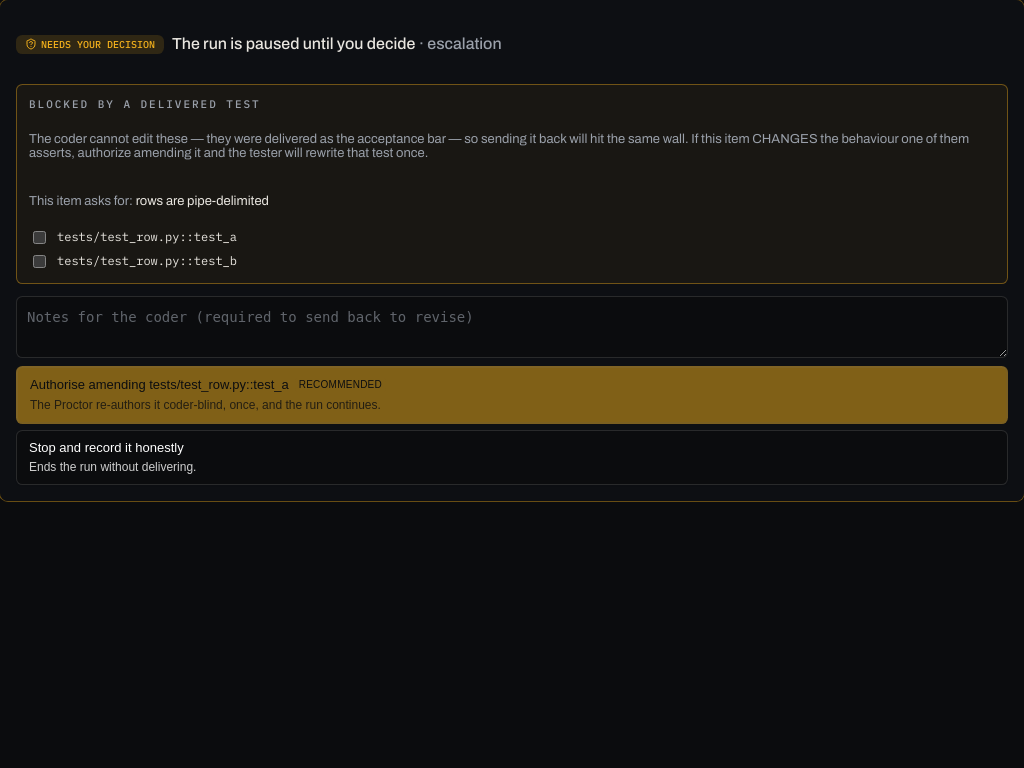
Scenario: amend_tests cannot be clicked before it authorizes anything › needs BOTH a ticked test and a note — the note is the amendment's recorded reason
Click the checkbox labelled "tests/test_row.py::test_a" at x=40, y=238, box [33,231,46,244]
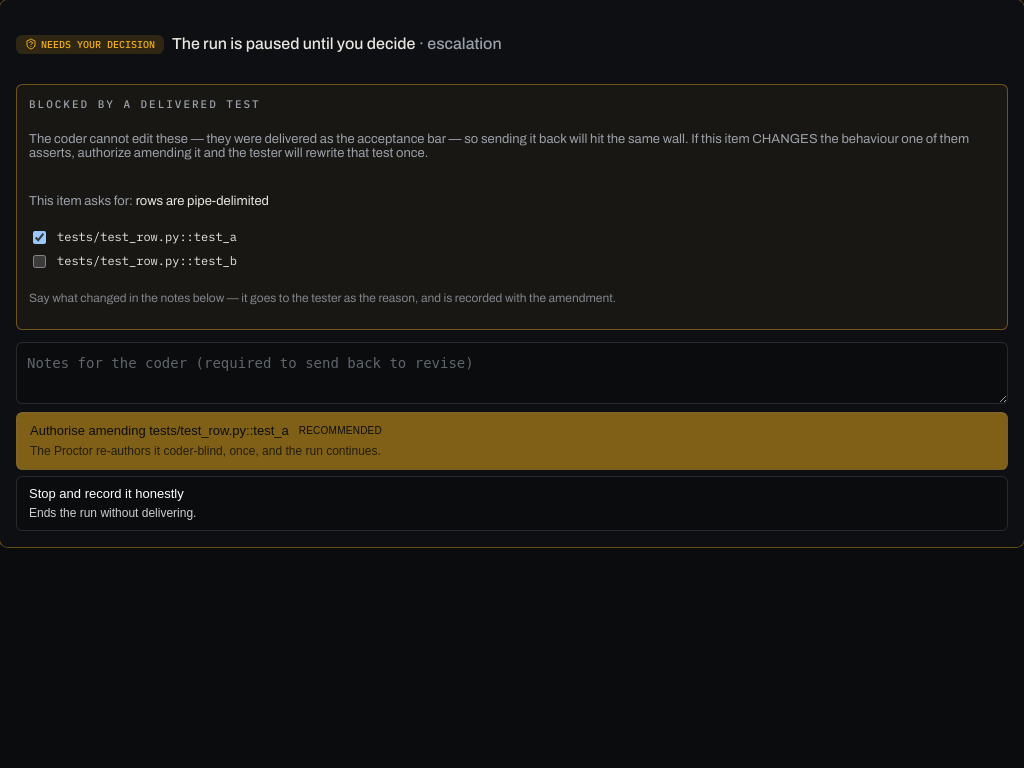
Expected: the button "Authorise amending" is disabled, [16,412,1008,470]
Type "the requirement changed to pipe-delimited" into the text box with placeholder "Notes for the coder (required to send back to revise)" at x=512, y=373, box [16,342,1008,404]
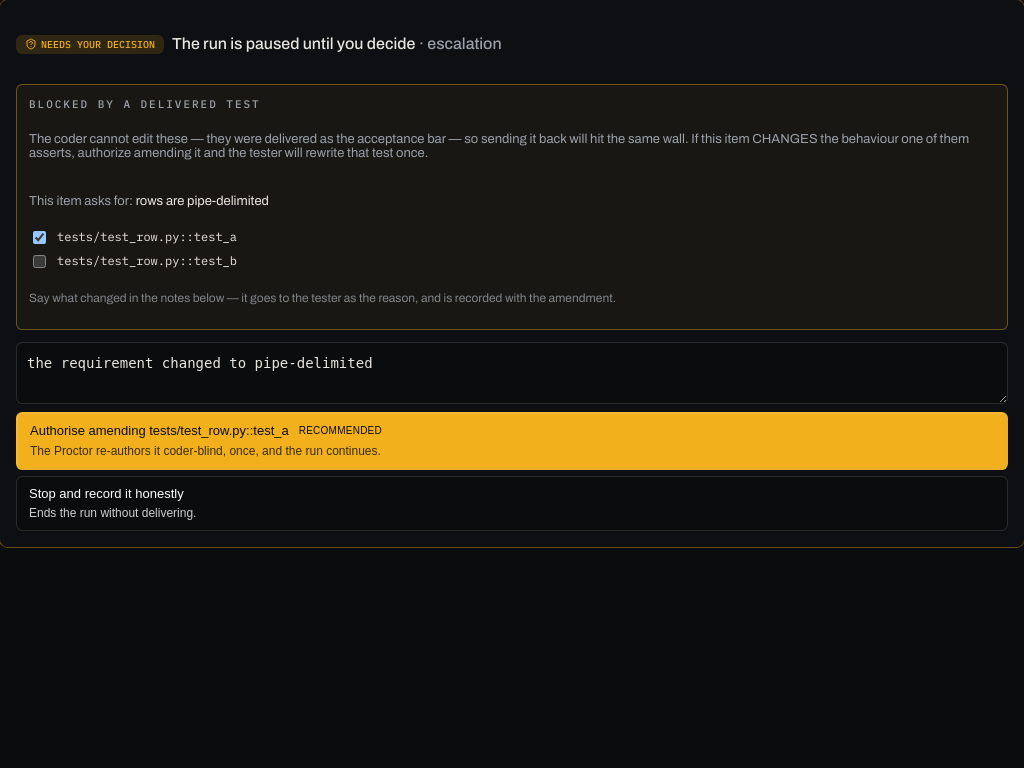
Now the button "Authorise amending" is enabled, box [16,412,1008,470]
